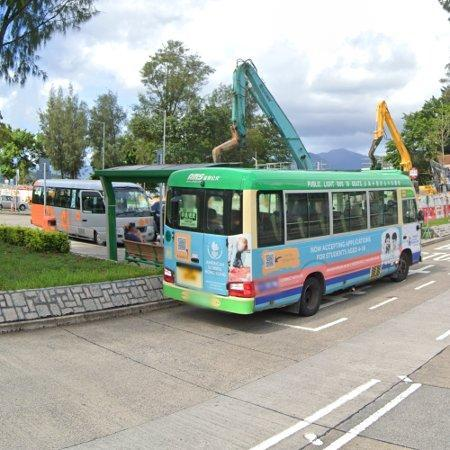buses: (164, 167, 422, 316), (32, 180, 105, 243), (113, 183, 155, 243)
